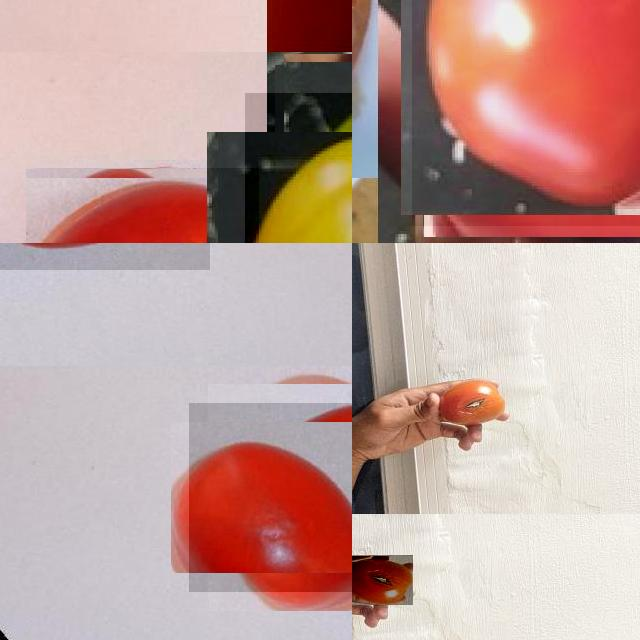Fresh Tomato: (412, 0, 640, 226), (189, 403, 352, 592)
Rotten Tomato: (26, 168, 259, 243), (352, 555, 413, 605)
